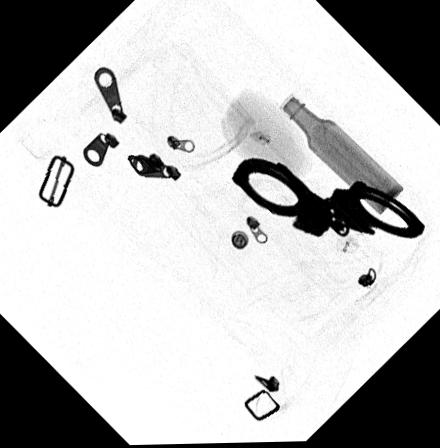HandCuffs: (227, 157, 426, 240)
